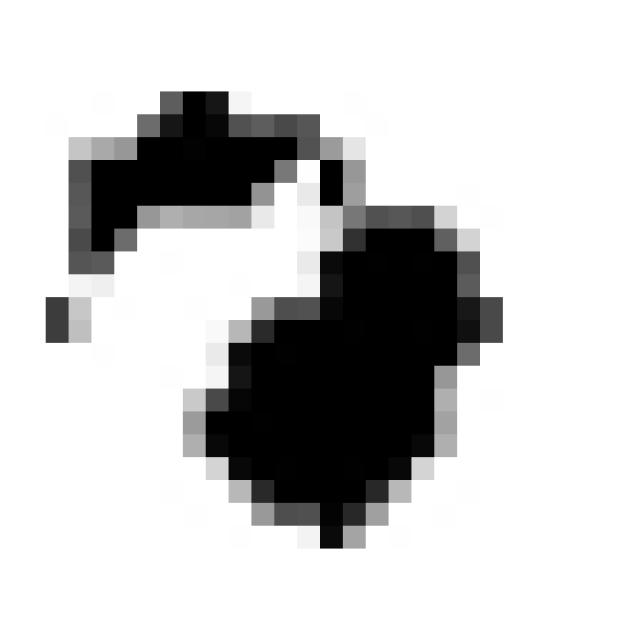0 -zero-: (22, 71, 512, 560)
